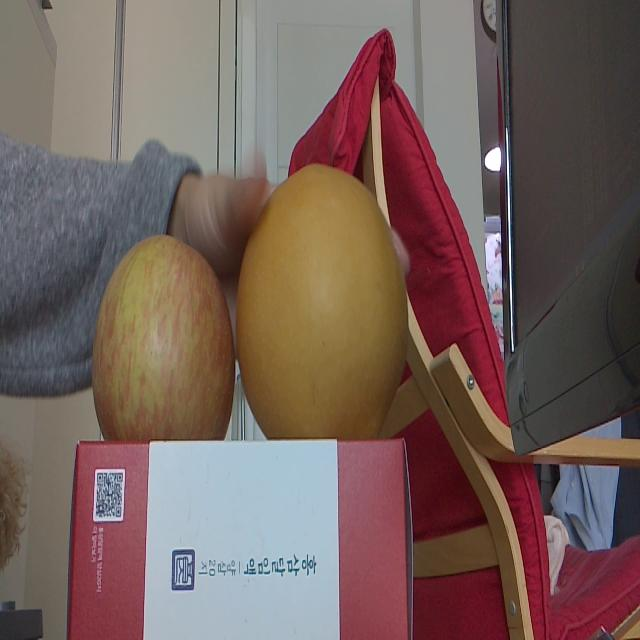apple: (93, 233, 233, 441)
pear: (237, 165, 411, 437)
